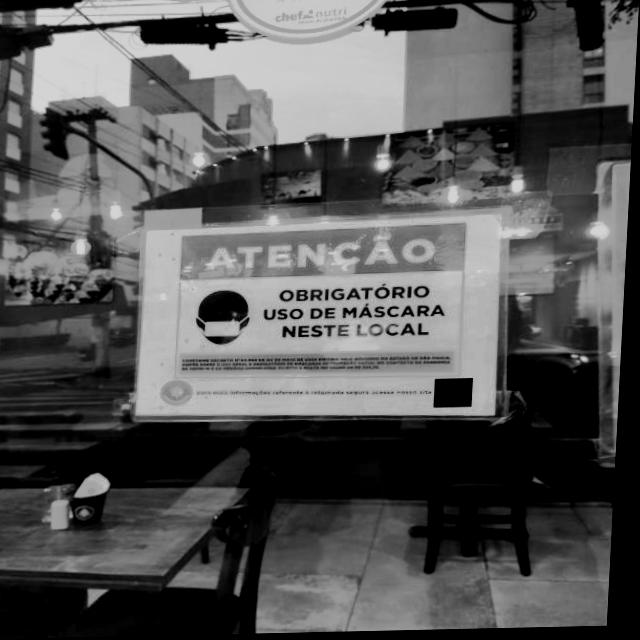qr_code: (438, 380, 477, 410)
